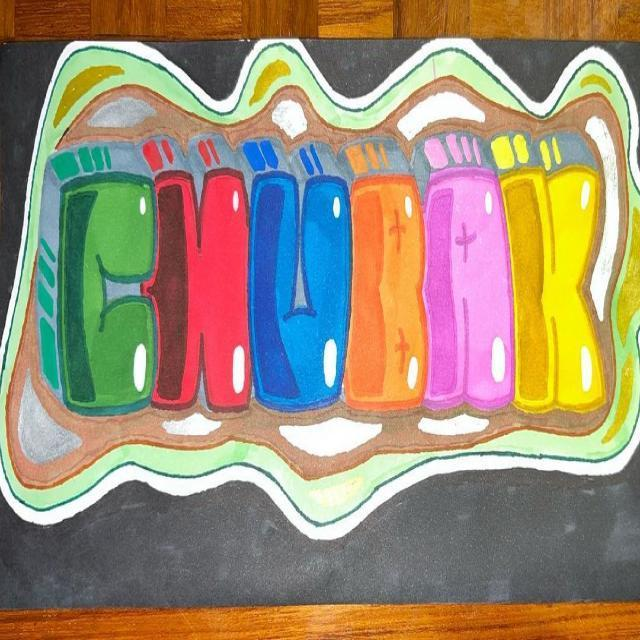-: (2, 44, 639, 522)
